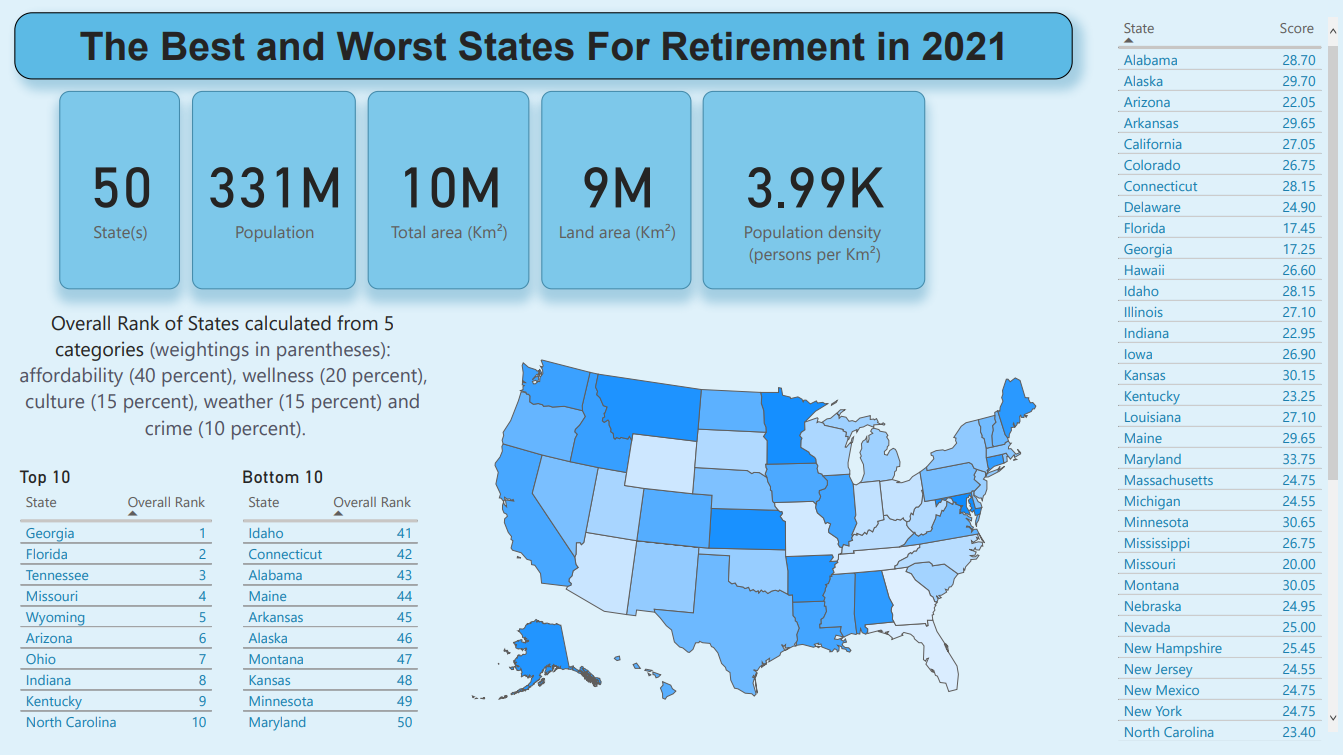

What the dashboard file says about the page in this screenshot:
{"tool":"powerbi","page":{"name":"Page 1","canvas":[1280,720],"ordinal":0},"visuals":[{"type":"tableEx","title":"Top 10","fields":{"Values":["Complete Table.State","Complete Table.Overall Rank"]},"box":[14.4,443.7,212.1,267.9],"z":0},{"type":"tableEx","title":"Bottom 10","fields":{"Values":["Complete Table.State","Complete Table.Overall Rank"]},"box":[226.5,443.7,190.1,267.9],"z":1000},{"type":"textbox","box":[14.6,11.7,1007.7,64.2],"z":2000},{"type":"card","fields":{"Values":["CountNonNull(Complete Table.State)"]},"box":[57.5,87,114.9,189.3],"z":3000},{"type":"card","fields":{"Values":["Sum(Complete Table.Population)"]},"box":[183.6,87,156.3,189.3],"z":4000},{"type":"card","fields":{"Values":["Sum(Complete Table.Total area (Km²))"]},"box":[351.1,87,153.8,189.3],"z":5000},{"type":"card","fields":{"Values":["Sum(Complete Table.Land area (Km²))"]},"box":[516.1,87,142.8,189.3],"z":6000},{"type":"card","fields":{"Values":["Sum(Complete Table.Population density)"]},"box":[670.1,87,212.1,189.3],"z":7000},{"type":"textbox","box":[14.4,289,402.3,154.6],"z":8000},{"type":"shapeMap","fields":{"Category":["Complete Table.State"],"Value":["Sum(Complete Table.Overall Rank)"]},"box":[416.3,288.9,606,430.9],"z":9000},{"type":"tableEx","fields":{"Values":["Complete Table.State","Sum(Best States to Retire.Score)"]},"box":[1060.2,11.7,219.8,699.3],"z":10000}]}

Visuals, with their boxes in screenshot pixels (x1, y1, x2, y2), scaled from the page's 1280x720 canvas onto the 1344x755 screenshot:
"Top 10" tableEx: x1=15 y1=465 x2=238 y2=746
"Bottom 10" tableEx: x1=238 y1=465 x2=437 y2=746
textbox: x1=15 y1=12 x2=1073 y2=80
card - CountNonNull(Complete Table.State): x1=60 y1=91 x2=181 y2=290
card - Sum(Complete Table.Population): x1=193 y1=91 x2=357 y2=290
card - Sum(Complete Table.Total area (Km²)): x1=369 y1=91 x2=530 y2=290
card - Sum(Complete Table.Land area (Km²)): x1=542 y1=91 x2=692 y2=290
card - Sum(Complete Table.Population density): x1=704 y1=91 x2=926 y2=290
textbox: x1=15 y1=303 x2=438 y2=465
shapeMap - Complete Table.State x Sum(Complete Table.Overall Rank): x1=437 y1=303 x2=1073 y2=754
tableEx - Complete Table.State x Sum(Best States to Retire.Score): x1=1113 y1=12 x2=1343 y2=746
